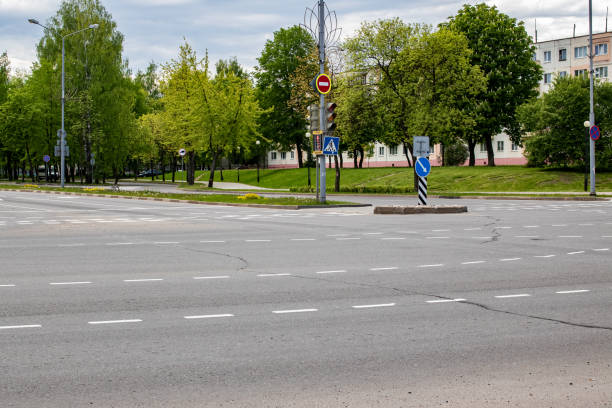Girilmez: (316, 74, 333, 95)
